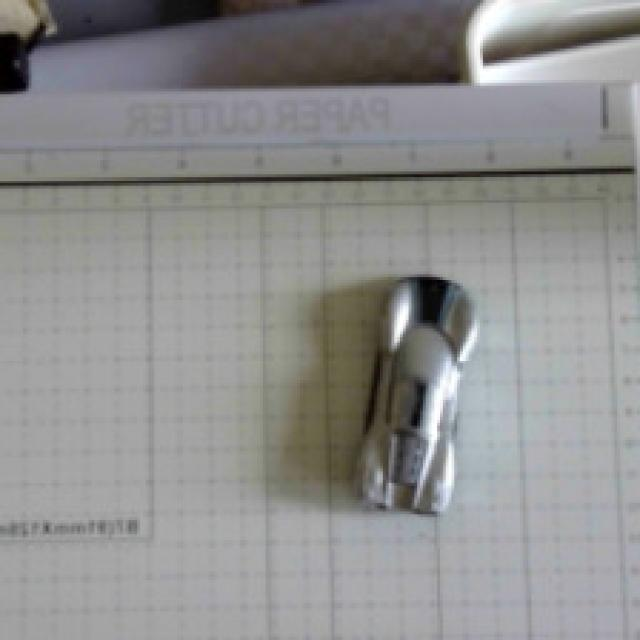Grey Car: (286, 231, 538, 562)
